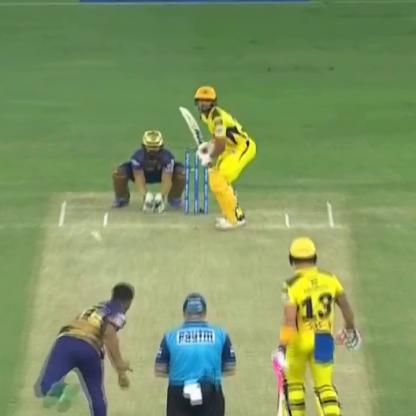bat: (174, 97, 210, 157), (88, 228, 106, 244)
pitch: (22, 185, 364, 416)
